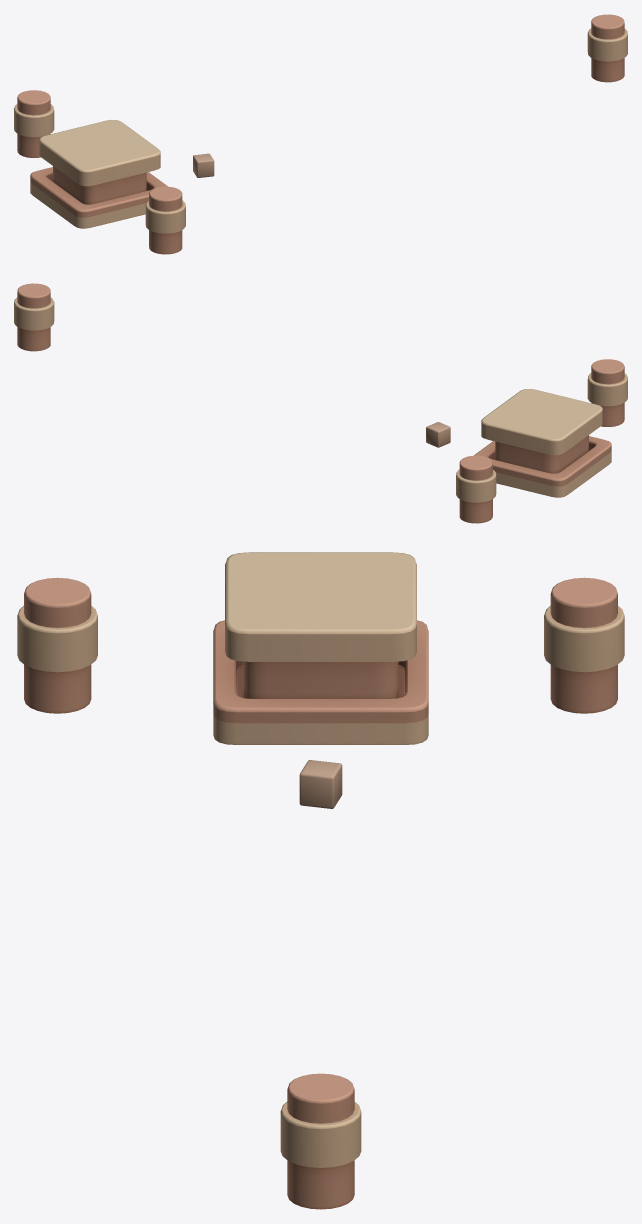
File: Props.fbx
The picture shows the model from 3 angles, top to bottom: view 1: azimuth 30°, elevation 25°; view 2: azimuth 150°, elevation 25°; view 3: azimuth 270°, elevation 25°; orthographic projection. The views are drawn at different scales.
Parts seen in each view (by area): view 1: Box, Cylinder-2, Cylinder-2 (2), Cylinder-2 (1), Box1-5; view 2: Box, Cylinder-2 (1), Cylinder-2 (2), Cylinder-2, Box1-5; view 3: Box, Cylinder-2 (2), Cylinder-2, Cylinder-2 (1), Box1-5.
Part boxes in pixels (x1,y1,x2,y2): Box: [30, 120, 167, 228]; Cylinder-2: [145, 186, 185, 254]; Cylinder-2 (2): [587, 14, 627, 82]; Cylinder-2 (1): [14, 90, 54, 157]; Box1-5: [193, 153, 214, 177]; Box: [474, 389, 611, 497]; Cylinder-2 (1): [456, 455, 496, 523]; Cylinder-2 (2): [14, 283, 54, 351]; Cylinder-2: [587, 359, 627, 426]; Box1-5: [426, 422, 450, 447]; Box: [213, 552, 428, 744]; Cylinder-2 (2): [280, 1073, 361, 1209]; Cylinder-2: [17, 577, 97, 713]; Cylinder-2 (1): [544, 577, 624, 713]; Box1-5: [299, 760, 342, 808].
Bounding box in the file's own units: 55.19 × 5 × 25.38.
